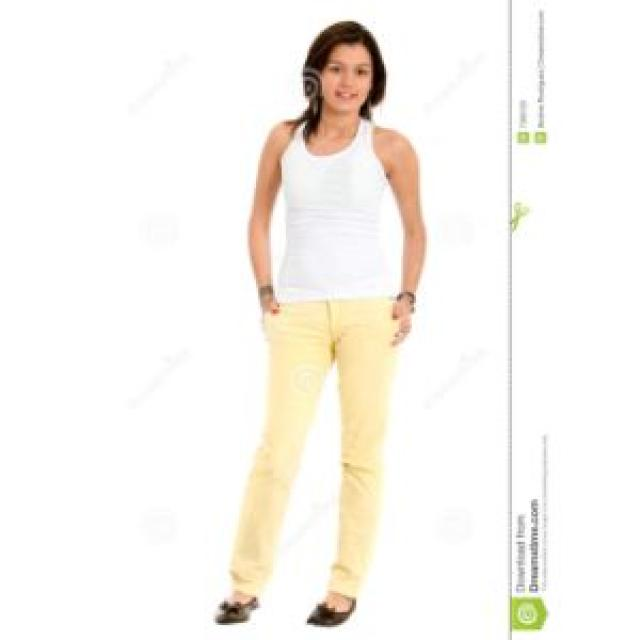adult: (203, 19, 435, 640)
